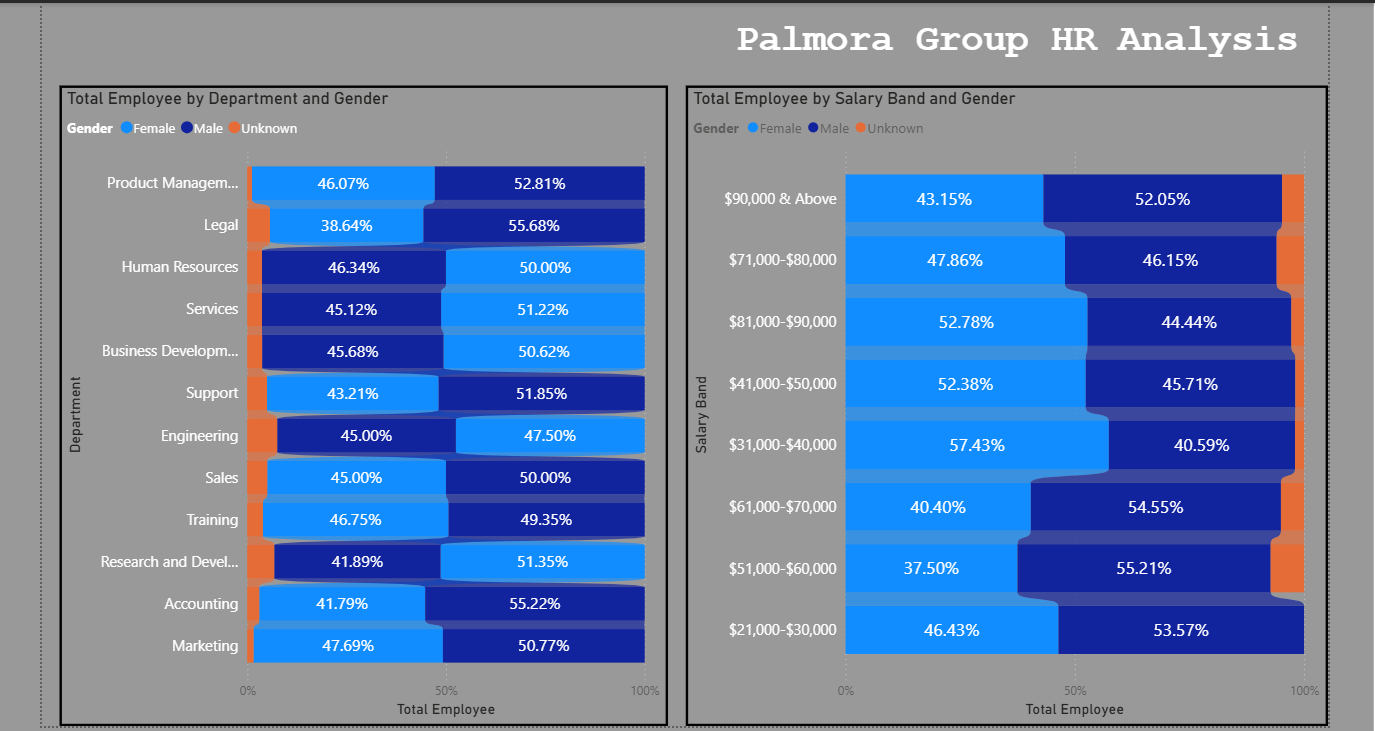

This screenshot's page, from the dashboard's own definition file:
{"tool":"powerbi","page":{"name":"Page 2","canvas":[1280,720],"ordinal":1},"visuals":[{"type":"textbox","box":[685.3,11.5,578.5,57.7],"z":1000},{"type":"hundredPercentStackedBarChart","fields":{"Category":["Department.Department"],"Y":["Palmoria Group emp-data.Total Employee"],"Series":["Gender.Gender"]},"box":[17.3,82.2,606,637.7],"z":3000},{"type":"hundredPercentStackedBarChart","fields":{"Category":["Palmoria Group emp-data.Salary Band"],"Y":["Palmoria Group emp-data.Total Employee"],"Series":["Gender.Gender"]},"box":[640.6,82.2,639.1,637.7],"z":4000}]}

Visuals, with their boxes in screenshot pixels (x1, y1, x2, y2):
textbox: bbox=[725, 15, 1304, 73]
hundredPercentStackedBarChart - Department.Department x Palmoria Group emp-data.Total Employee: bbox=[57, 86, 663, 724]
hundredPercentStackedBarChart - Palmoria Group emp-data.Salary Band x Palmoria Group emp-data.Total Employee: bbox=[680, 86, 1320, 724]
